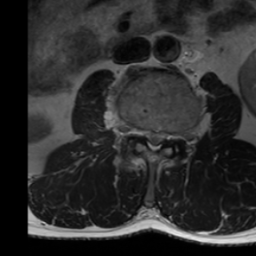CCS_normal: (150, 125, 158, 156)
LFS_stenosis: (168, 125, 176, 146)
LLS_stenosis: (158, 126, 167, 148)
RFS_normal: (133, 121, 143, 143)
RLS_stenosis: (143, 124, 150, 148)
